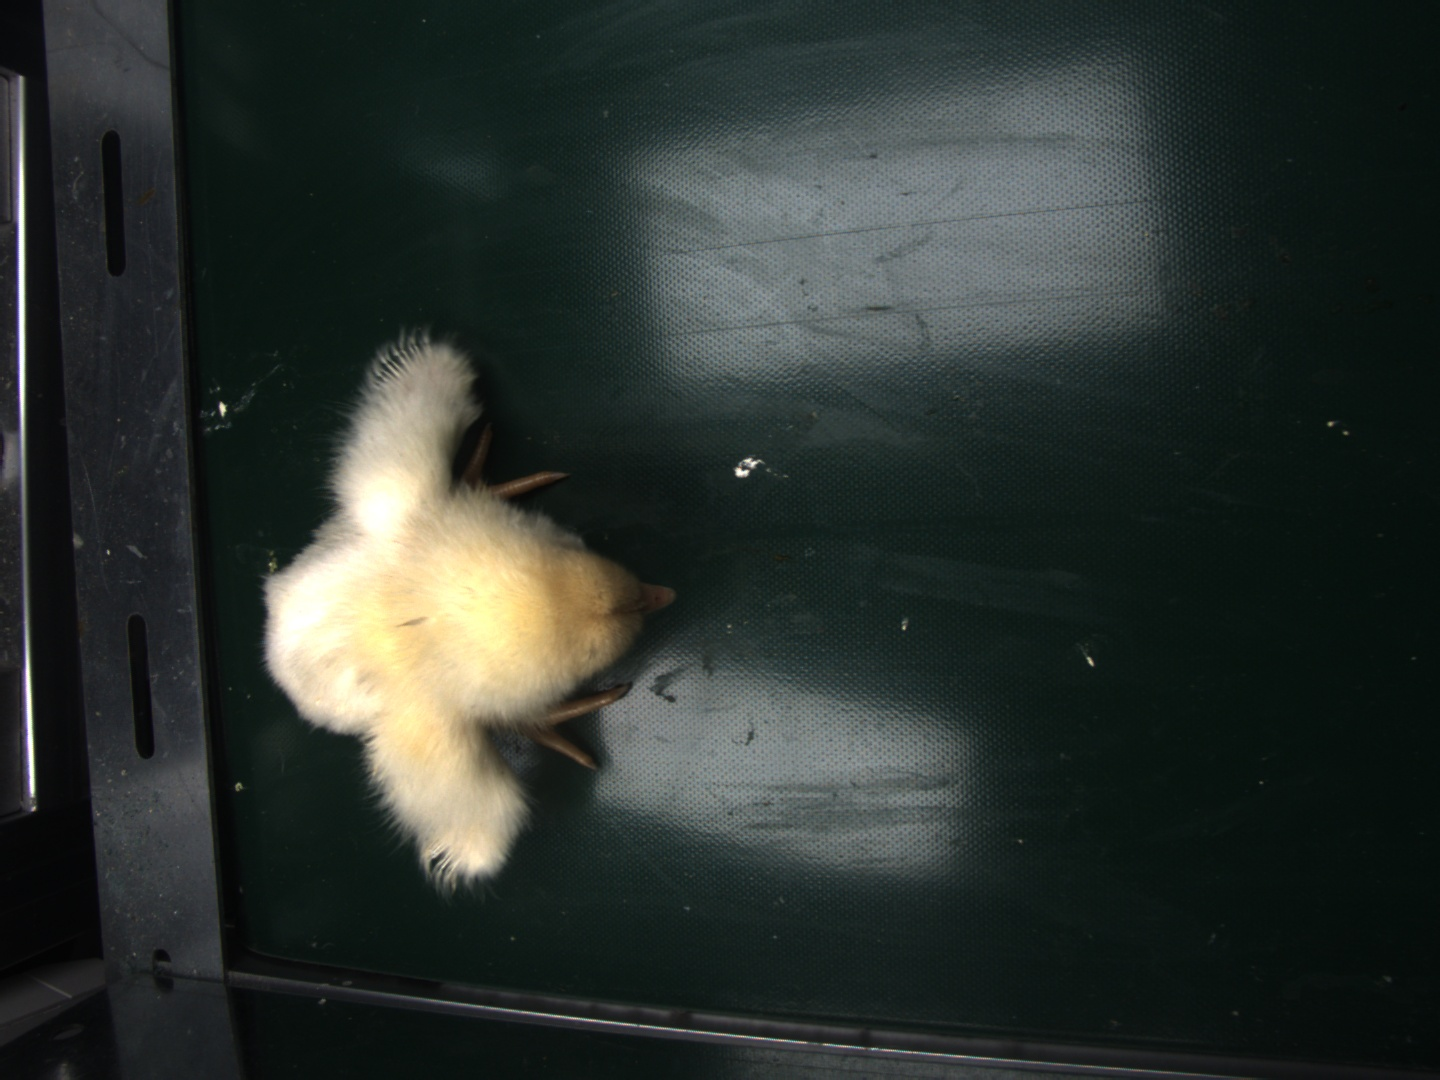male: (374, 340, 429, 389)
